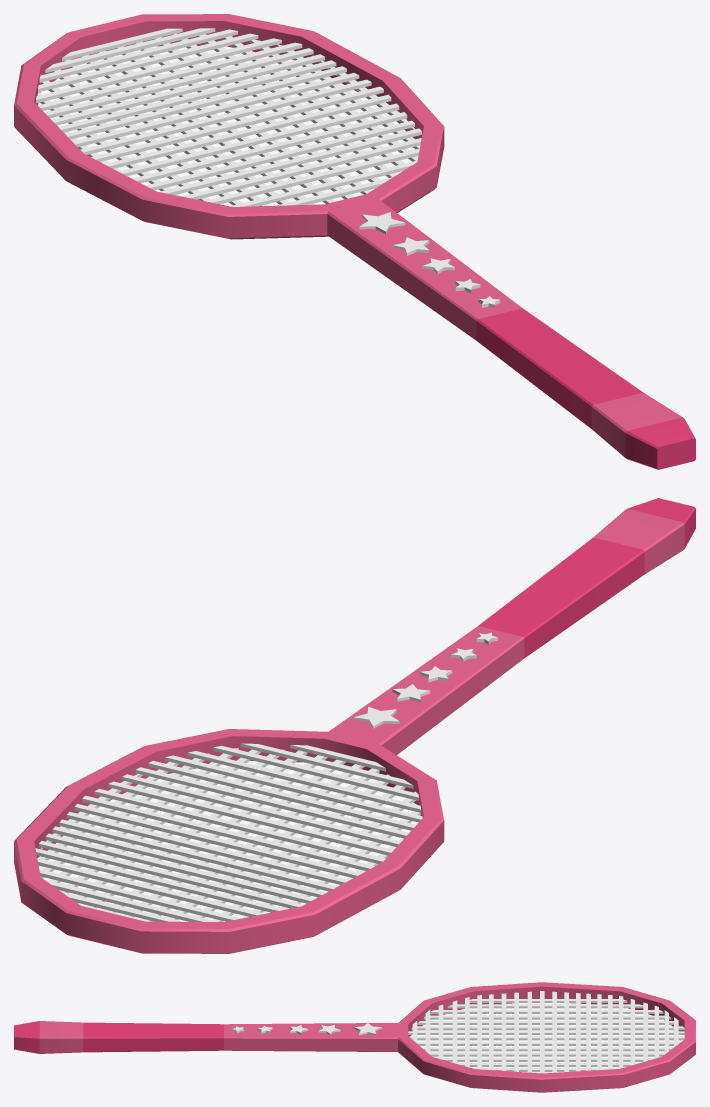
Rendered from Racket.fbx.
3 views of the same model, one above another, from view 1: azimuth 30°, elevation 25°; view 2: azimuth 150°, elevation 25°; view 3: azimuth 270°, elevation 25° (orthographic). The views are drawn at different scales.
Parts seen in each view (by area): view 1: Racket; view 2: Racket; view 3: Racket.
Boxes of the visible parts, x1,y1,x2,y2 form: Racket: (14, 14, 695, 469); Racket: (14, 498, 695, 953); Racket: (14, 982, 695, 1092).
Size of the model in its own units: 27.09 by 2.26 by 80.34.
Materials: 1 (1 with a texture image).
